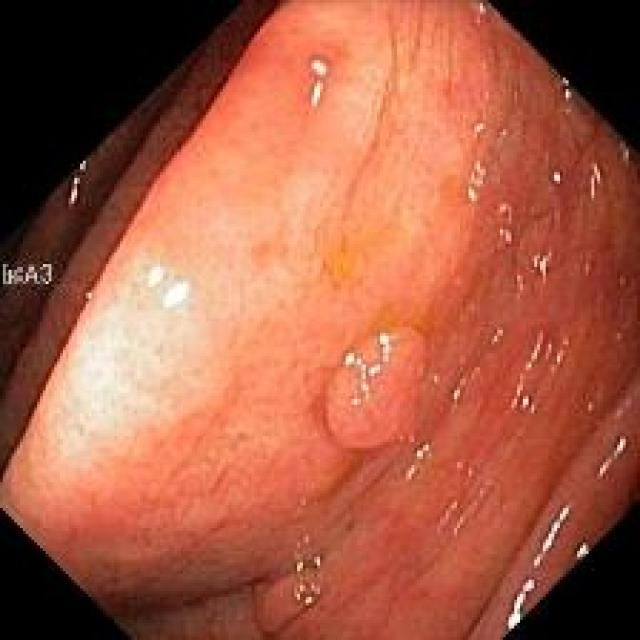Polyps: (326, 326, 426, 450), (256, 568, 322, 635)
